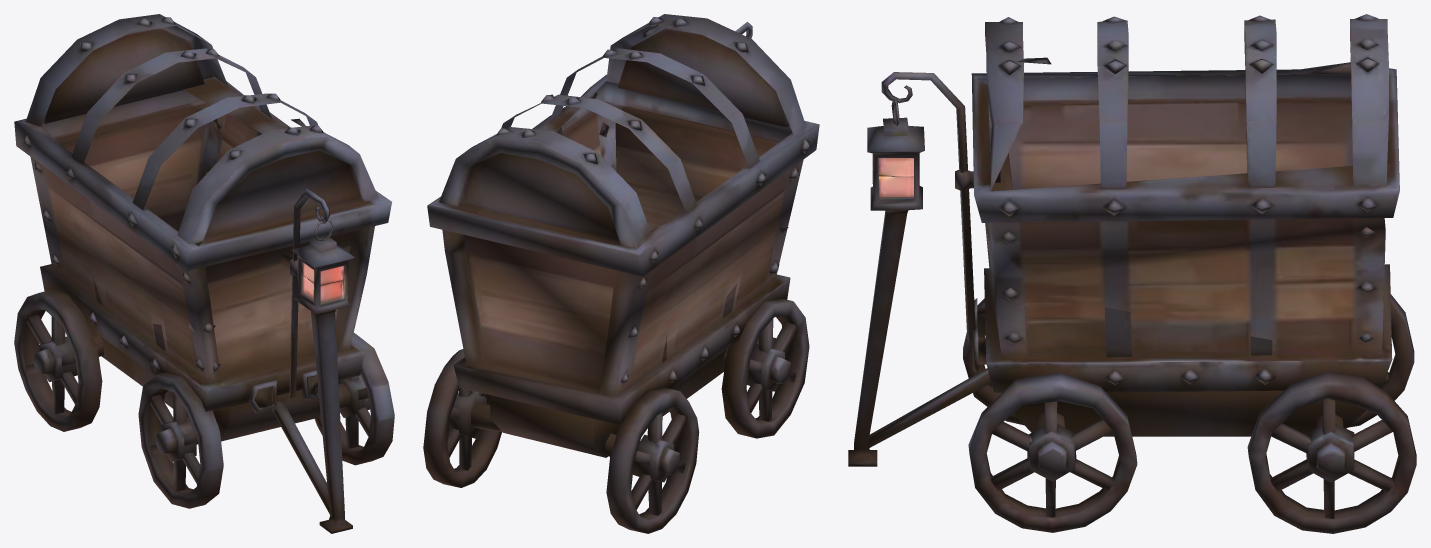
The model's file is runaway_mine_cart.glb.
The picture shows the model from 3 angles, left to right: view 1: azimuth 30°, elevation 25°; view 2: azimuth 150°, elevation 25°; view 3: azimuth 270°, elevation 25°; orthographic projection. The views are drawn at different scales.
Parts seen in each view (by area): view 1: tripo_node_5b3c50a9-9330-4037-822c-09b70c025d51; view 2: tripo_node_5b3c50a9-9330-4037-822c-09b70c025d51; view 3: tripo_node_5b3c50a9-9330-4037-822c-09b70c025d51.
Boxes of the visible parts, bbox=[...] form: tripo_node_5b3c50a9-9330-4037-822c-09b70c025d51: bbox=[14, 14, 394, 533]; tripo_node_5b3c50a9-9330-4037-822c-09b70c025d51: bbox=[423, 14, 819, 533]; tripo_node_5b3c50a9-9330-4037-822c-09b70c025d51: bbox=[848, 14, 1416, 533].
Size of the model in its own units: 1.12 by 1.8 by 2.07.
Materials: 1 (1 with a texture image).
